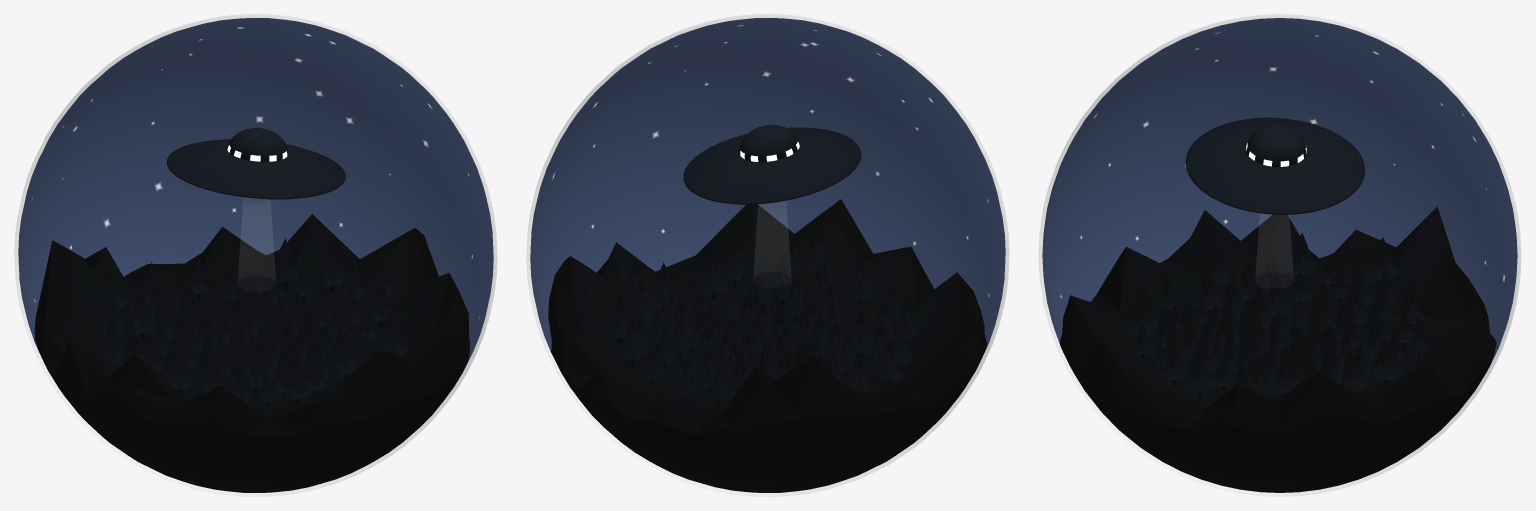
File: ufo.glb
3 views of the same model, side by side, from view 1: azimuth 30°, elevation 25°; view 2: azimuth 150°, elevation 25°; view 3: azimuth 270°, elevation 25° (orthographic).
Visible parts, largest first — view 1: Sky, Mountains, UFO, Globe, Tree_L.076, Tree_L.075, Tree_L.078, Tree_L.088, Tree_L.050, Tree_L.071, Tree_L.072, Tree_L.089 (+11 smaller); view 2: Sky, Mountains, UFO, Globe, Tree_L.089, Tree_L.083, Tree_L.073, Tree_L.086, Tree_L.075, Tree_L.076, Tree_L.071, Tree_L.088 (+8 smaller); view 3: Sky, Mountains, UFO, Globe, Tree_L.086, Tree_L.073, Tree_L.089, Tree_L.083, Tree_L.081, Tree_L.062, Tree_L.035, Tree_L.087 (+9 smaller).
Boxes of the visible parts, x1,y1,x2,y2 form: Sky: (18, 18, 493, 361); Mountains: (34, 214, 469, 492); UFO: (167, 128, 345, 199); Globe: (14, 14, 497, 496); Tree_L.076: (282, 356, 313, 404); Tree_L.075: (331, 331, 359, 380); Tree_L.078: (165, 346, 194, 394); Tree_L.088: (317, 243, 344, 291); Tree_L.050: (132, 290, 156, 339); Tree_L.071: (336, 255, 366, 301); Tree_L.072: (369, 278, 396, 327); Tree_L.089: (269, 238, 298, 288); Sky: (530, 18, 1005, 350); Mountains: (548, 199, 987, 492); UFO: (683, 124, 861, 204); Globe: (526, 14, 1009, 496); Tree_L.089: (617, 316, 647, 366); Tree_L.083: (874, 337, 904, 386); Tree_L.073: (698, 251, 728, 299); Tree_L.086: (721, 237, 750, 286); Tree_L.075: (801, 229, 832, 279); Tree_L.076: (845, 257, 876, 301); Tree_L.071: (626, 278, 654, 324); Tree_L.088: (604, 295, 630, 343); Sky: (1042, 18, 1517, 363); Mountains: (1060, 206, 1496, 492); UFO: (1185, 117, 1364, 214); Globe: (1038, 14, 1521, 496); Tree_L.086: (1159, 338, 1190, 387); Tree_L.073: (1184, 349, 1215, 397); Tree_L.089: (1370, 337, 1401, 382); Tree_L.083: (1286, 233, 1317, 278); Tree_L.081: (1367, 237, 1396, 286); Tree_L.062: (1193, 268, 1222, 316); Tree_L.035: (1265, 272, 1290, 318); Tree_L.087: (1272, 351, 1299, 393).
Size of the model in its own units: 20.33 by 20.33 by 20.33.
7 materials, 6 textured.
